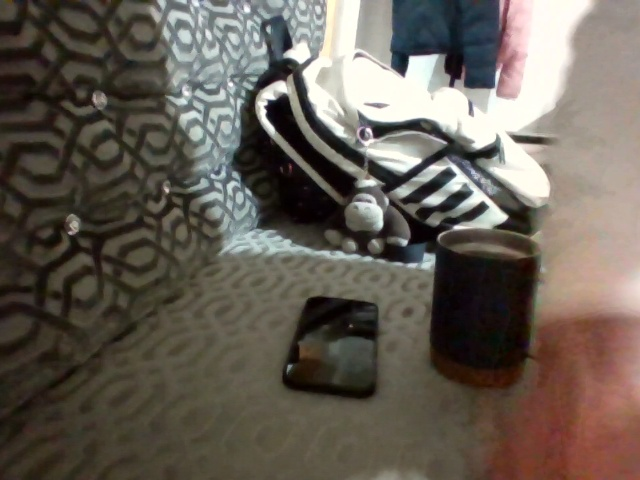celular: (278, 292, 390, 403)
taza: (410, 220, 552, 393)
